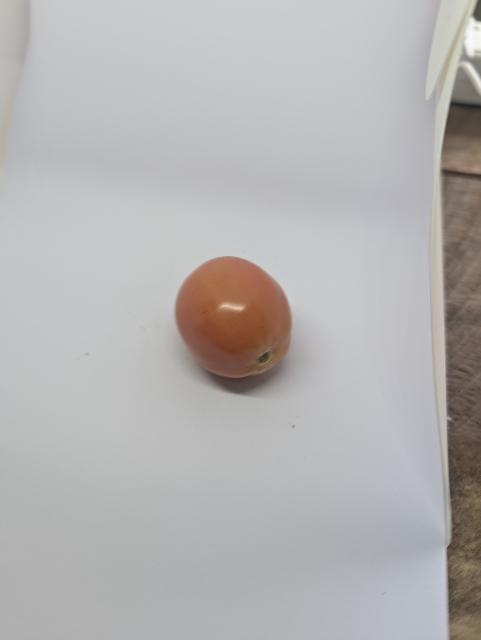red: (171, 246, 299, 384)
